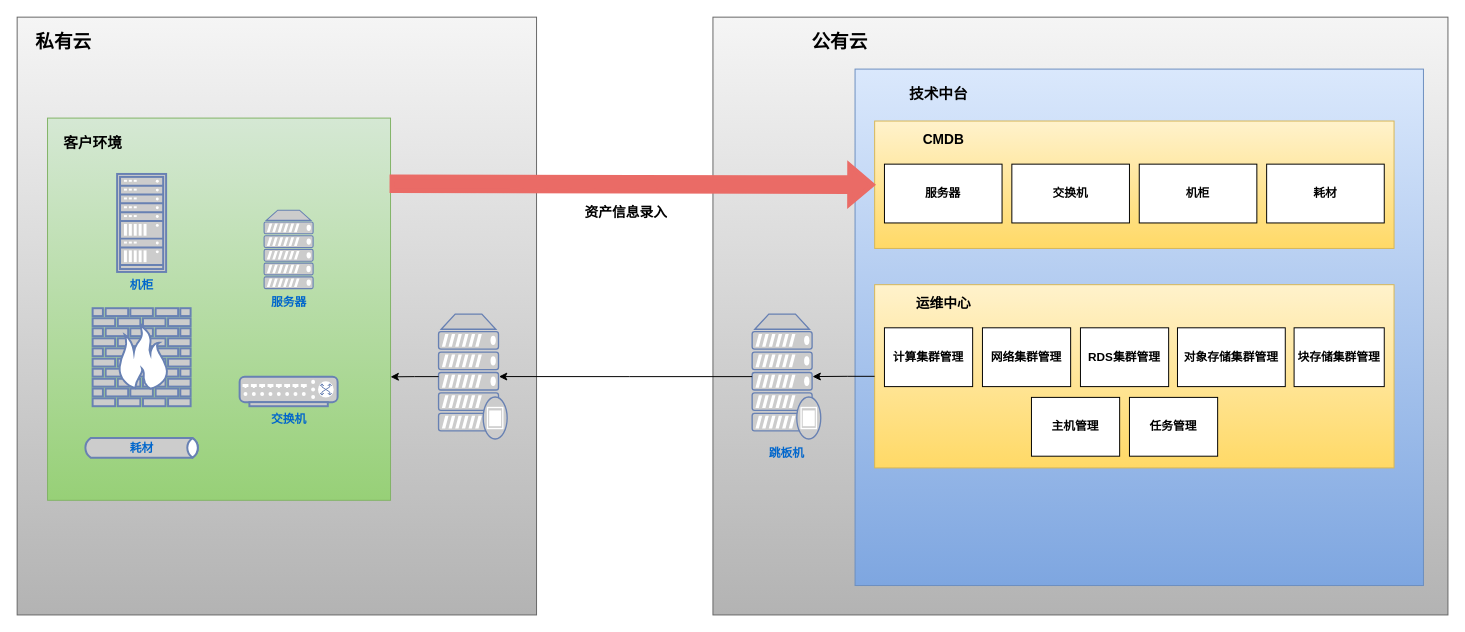
The diagram is 1465 pixels wide and 632 high, and some of its shapes have lost their labels. The centre of each missing label's shape, as x and y in pixels:
"frp" belongs at point (472, 376).
"防火墙" belongs at point (141, 357).
